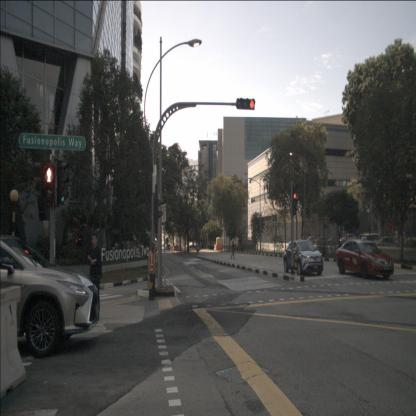human-pedestrian-adult: (87, 233, 102, 316), (147, 242, 156, 300), (231, 240, 235, 260)
movable_object-barrier: (0, 285, 27, 401), (216, 245, 222, 250), (174, 245, 179, 251), (214, 245, 219, 250), (178, 246, 183, 250)
vehicle-car: (0, 235, 100, 357), (336, 237, 394, 279), (283, 240, 324, 275), (356, 233, 390, 252), (369, 236, 400, 252), (323, 237, 345, 247), (315, 236, 335, 247), (340, 233, 357, 244), (304, 236, 322, 246)
